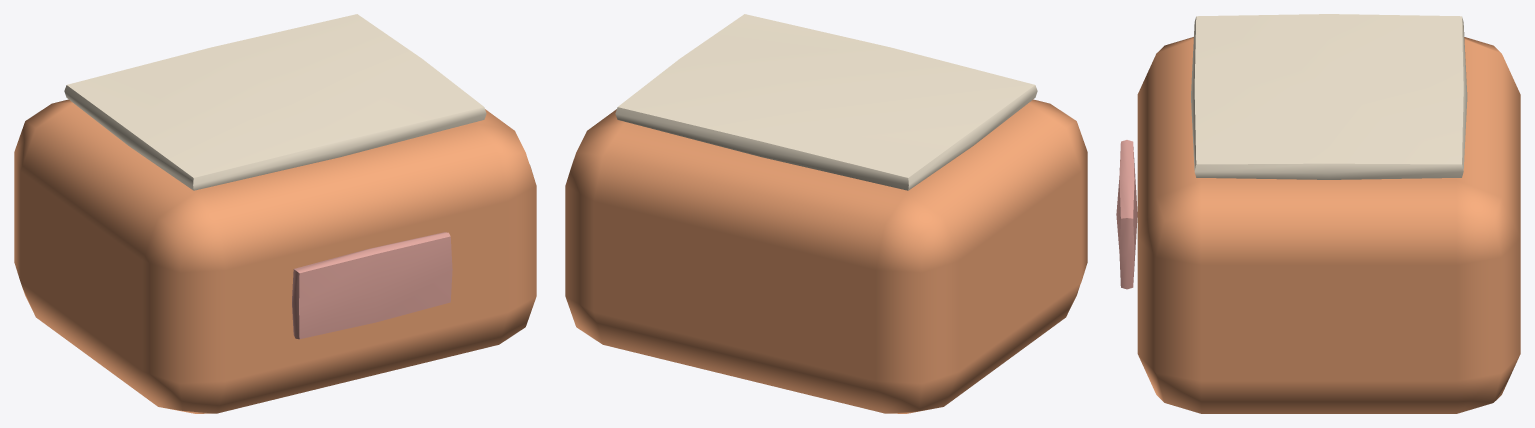
The model's file is snack-box.glb.
The picture shows the model from 3 angles, left to right: view 1: azimuth 30°, elevation 25°; view 2: azimuth 150°, elevation 25°; view 3: azimuth 270°, elevation 25°; orthographic projection. The views are drawn at different scales.
Parts seen in each view (by area): view 1: part (×3); view 2: part (×2); view 3: part (×3).
Boxes of the visible parts, box(x1,y1,x2,y2) form: part (×3): box(14, 14, 536, 413); part (×2): box(565, 14, 1087, 413); part (×3): box(1116, 14, 1520, 413).
Size of the model in its own units: 0.22 by 0.132 by 0.19.
1 material, 1 textured.
